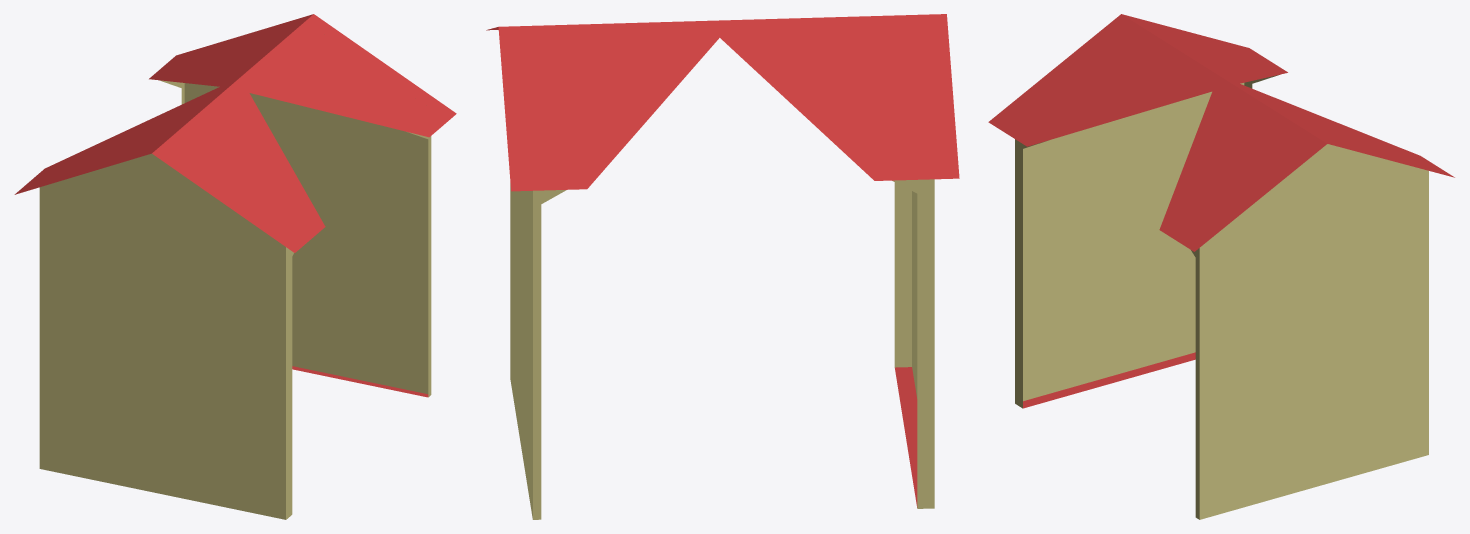
The picture shows the model from 3 angles, left to right: view 1: azimuth 30°, elevation 25°; view 2: azimuth 150°, elevation 25°; view 3: azimuth 270°, elevation 25°; orthographic projection. The views are drawn at different scales.
Size of the model in its own units: 12.58 by 12.19 by 10.06.
